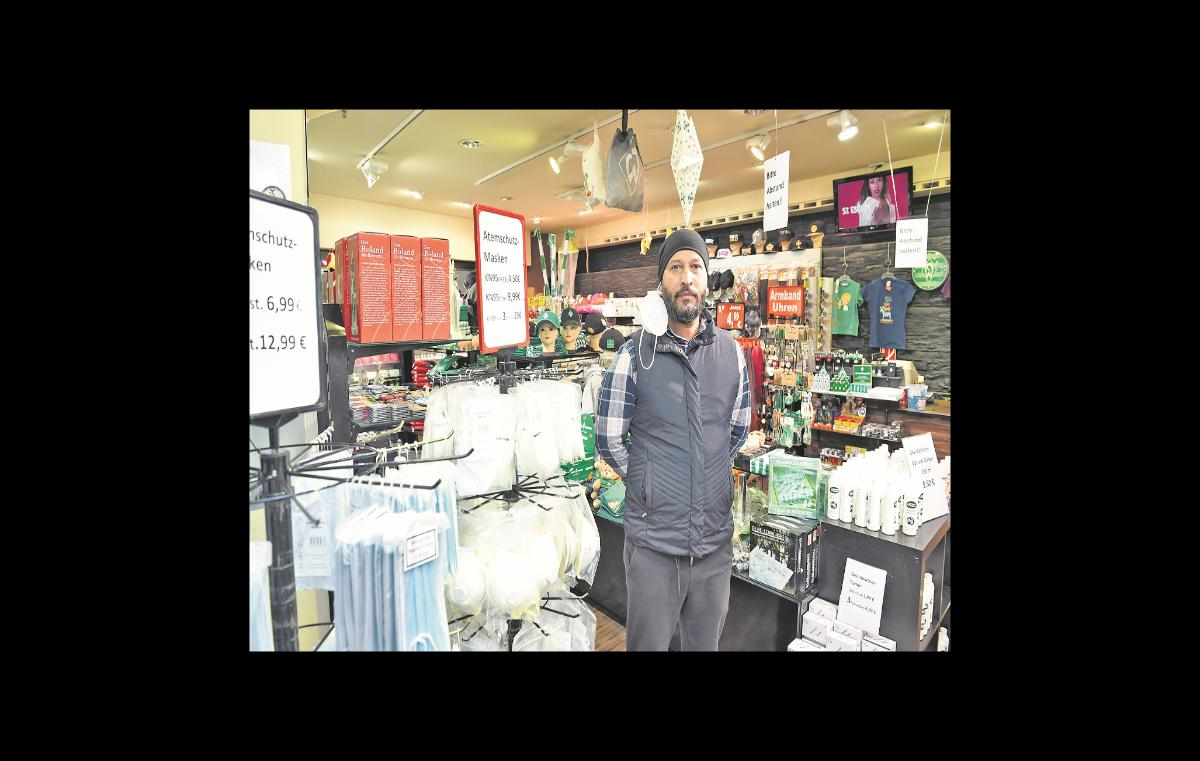without_mask: (671, 258, 703, 318), (862, 175, 888, 199)
